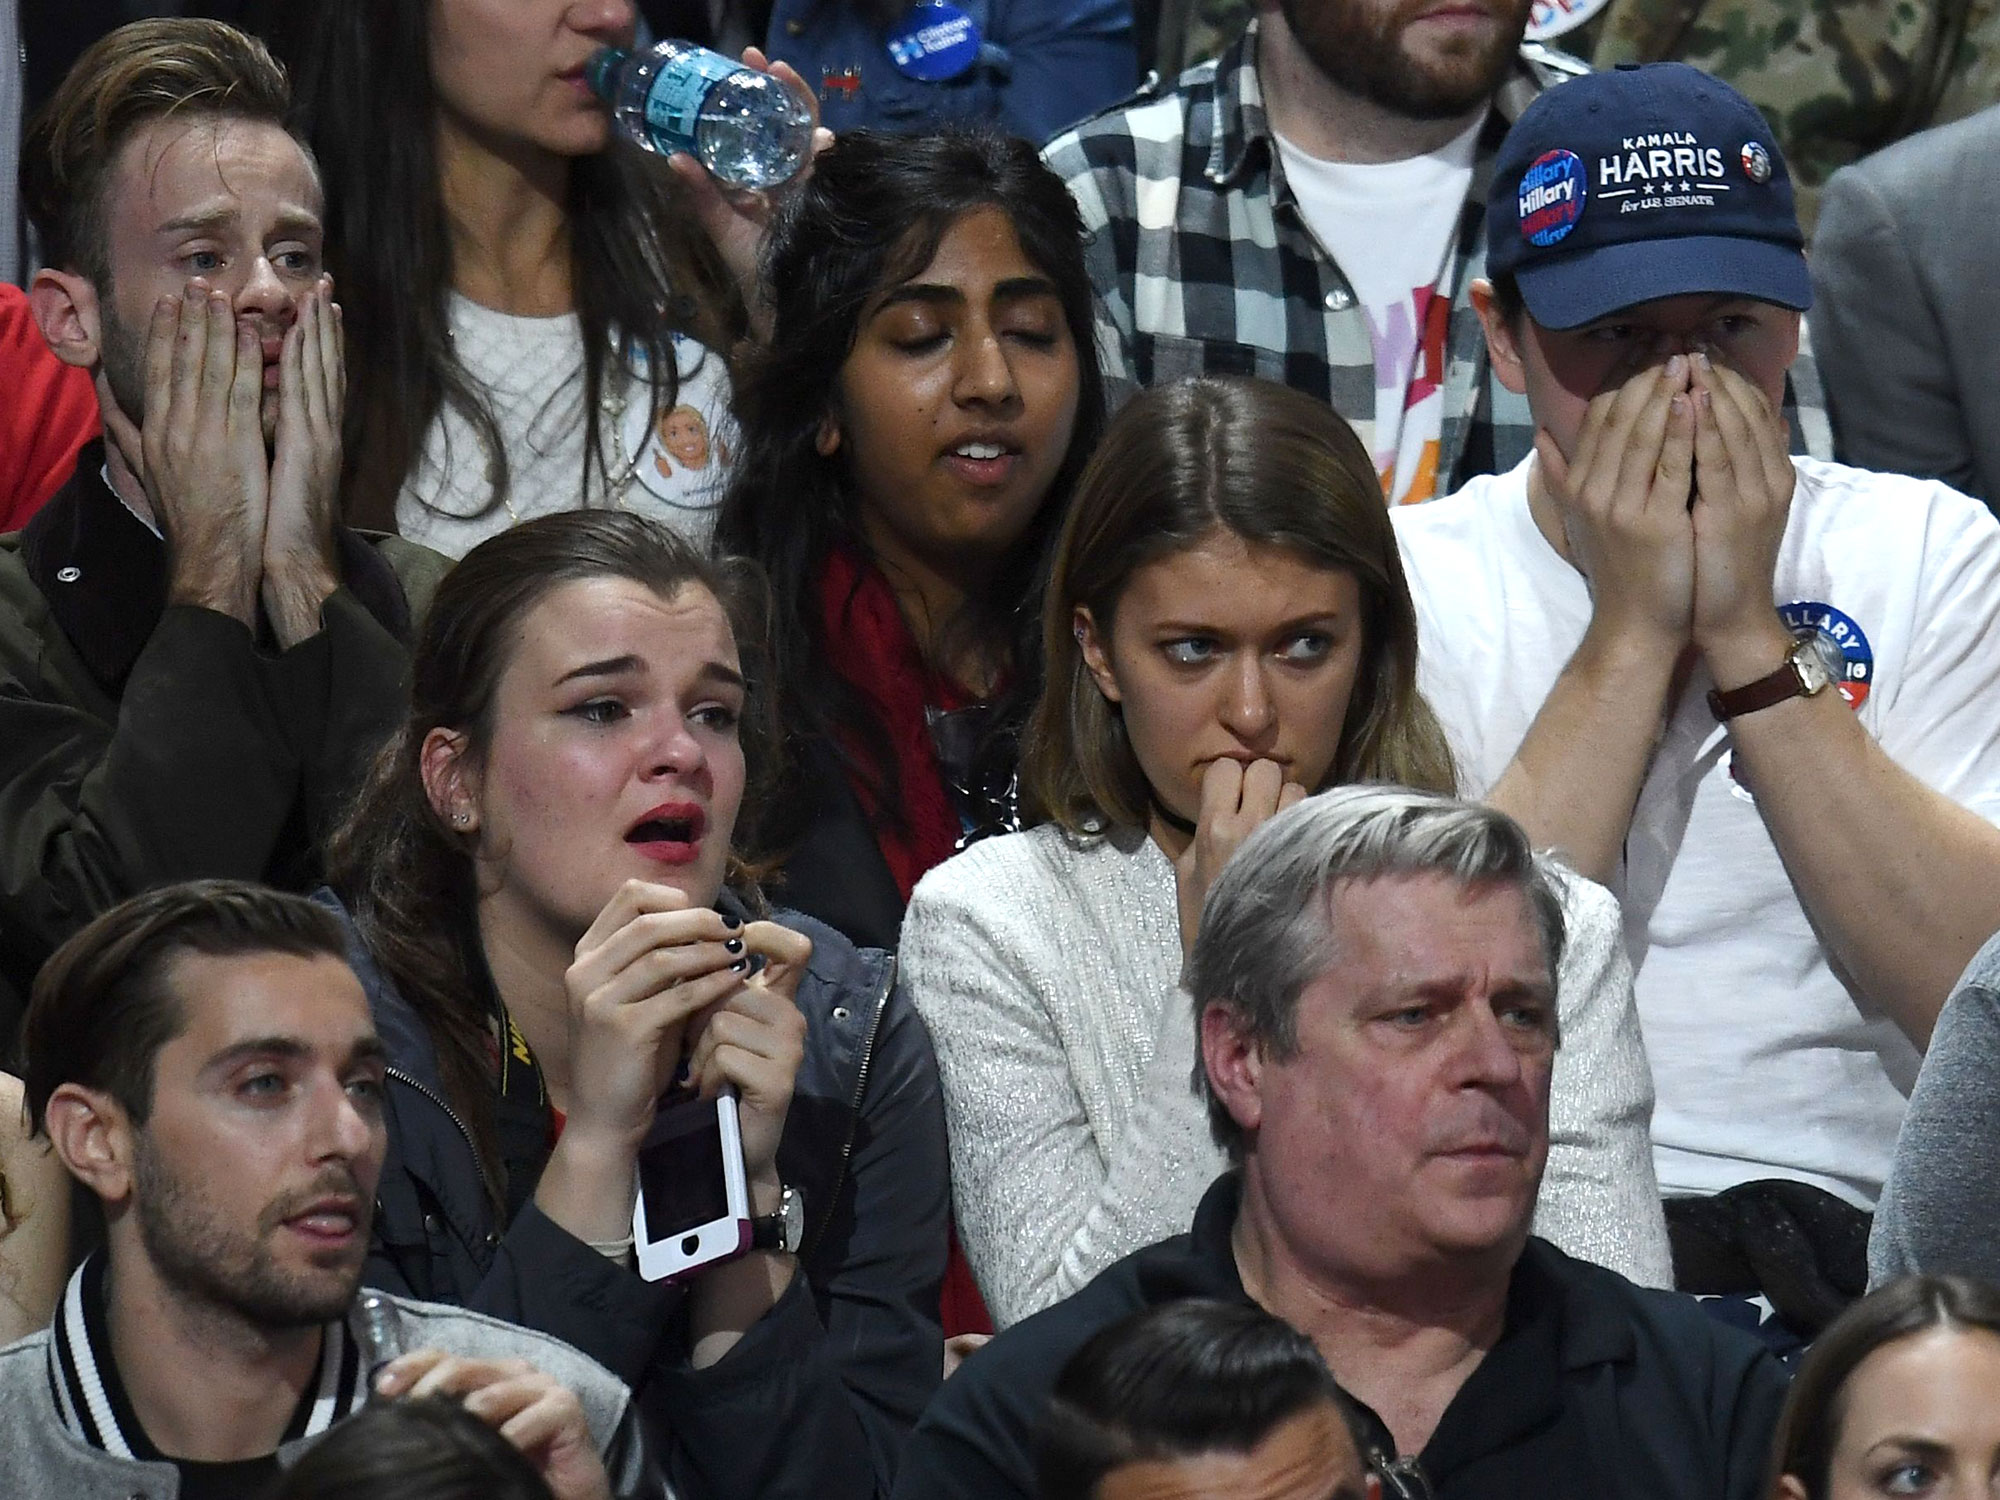sad: (1286, 876, 1560, 1261), (139, 954, 392, 1318), (498, 615, 772, 911), (1518, 319, 1822, 585), (91, 154, 346, 458), (1139, 549, 1357, 818)
